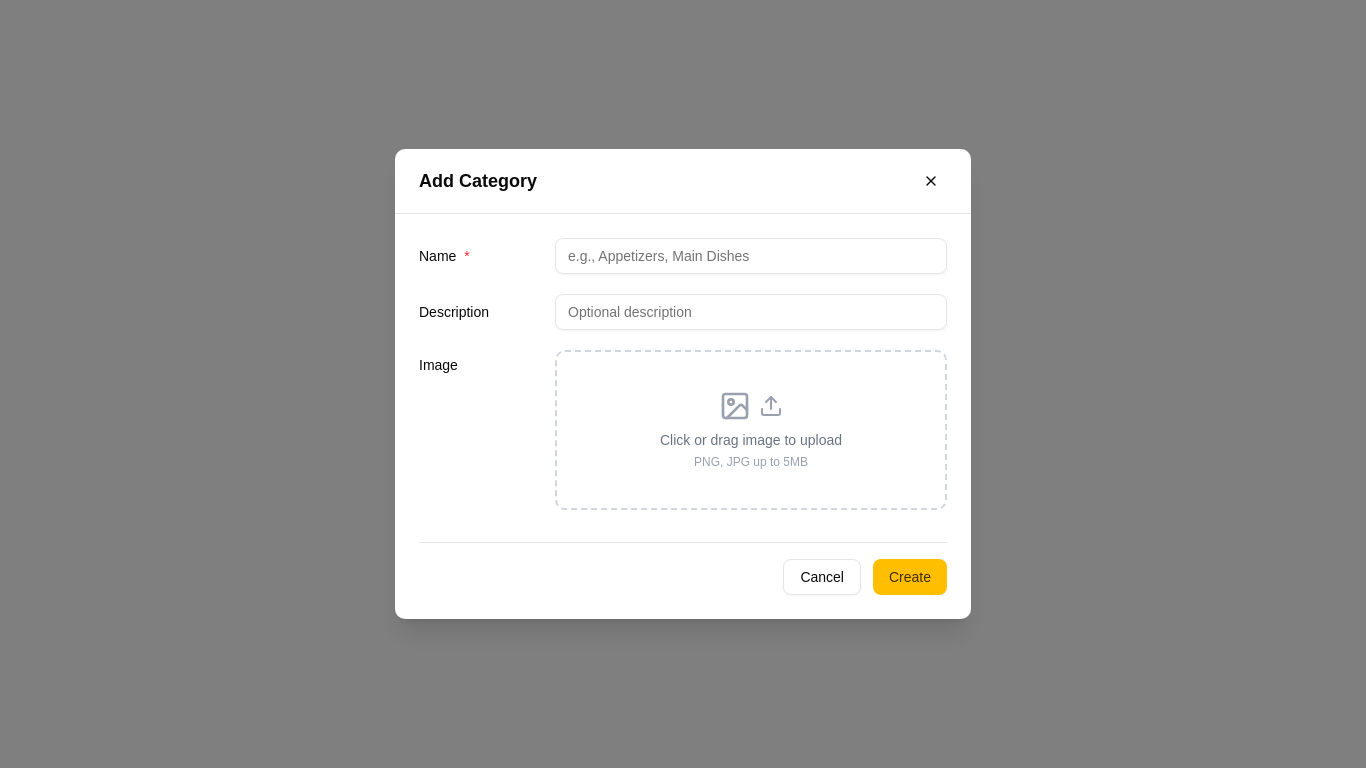
CategoryForm › Error Handling › should display fallback error message when action fails without error text
The image size is (1366, 768).
Type "Test" into the field labelled "Name *" at (751, 256), box [555,238,947,274]
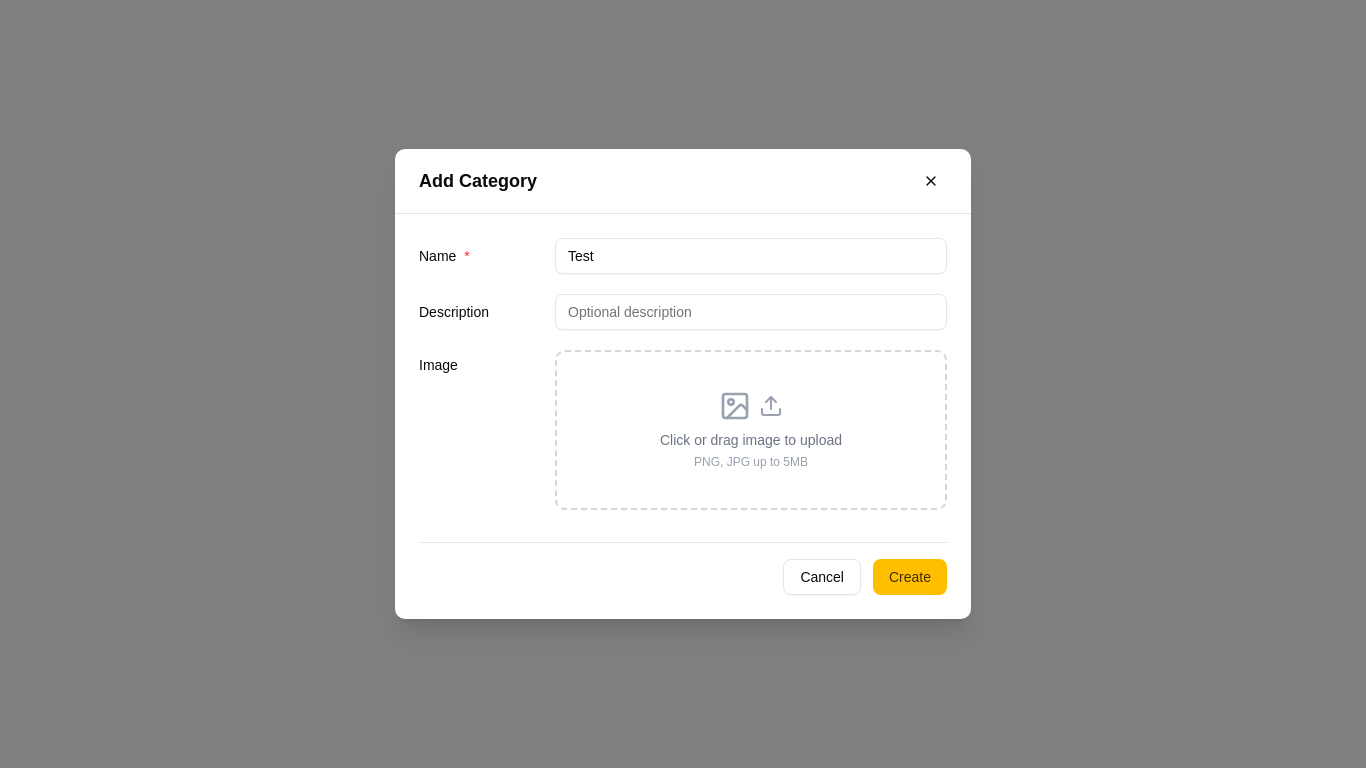
Click the button "Create" at (910, 577), box [873,559,947,595]
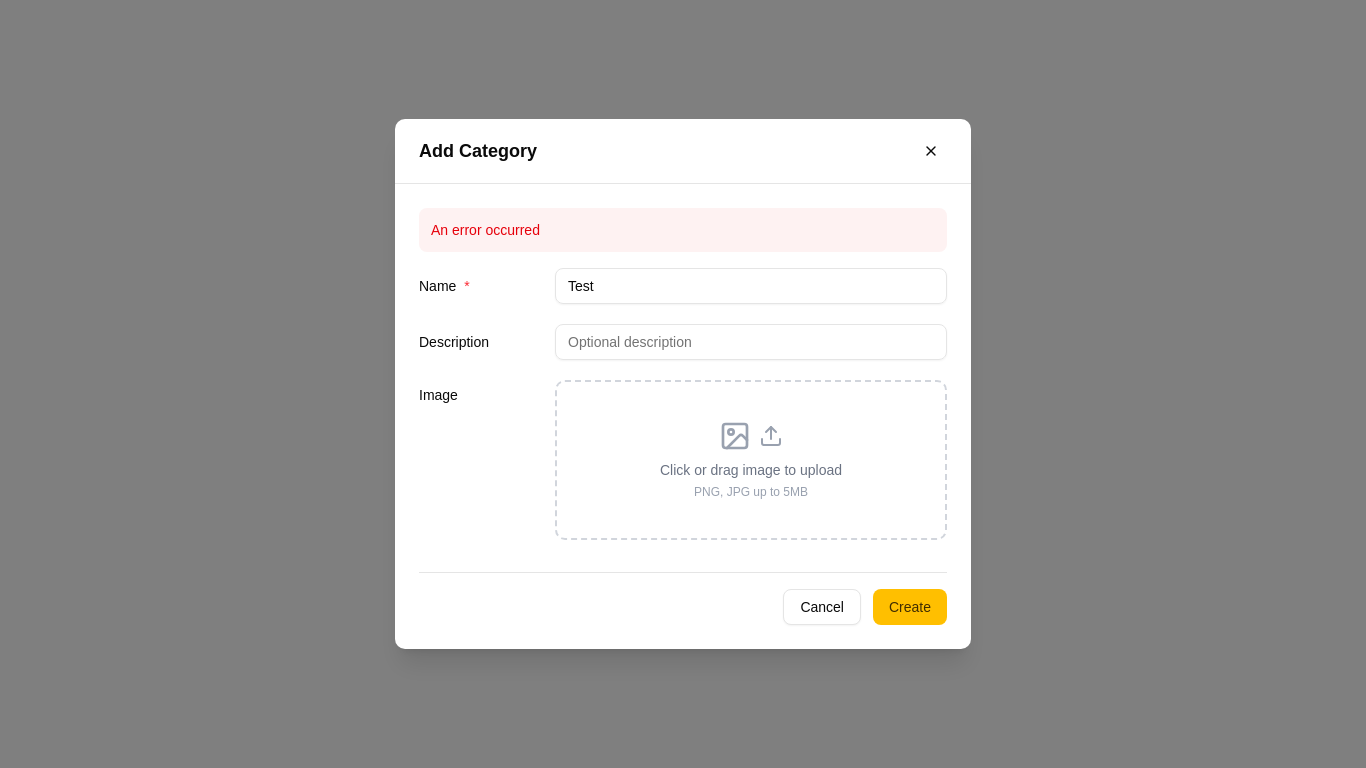
Check: the text "An error occurred" is shown, box [419,208,947,252]
